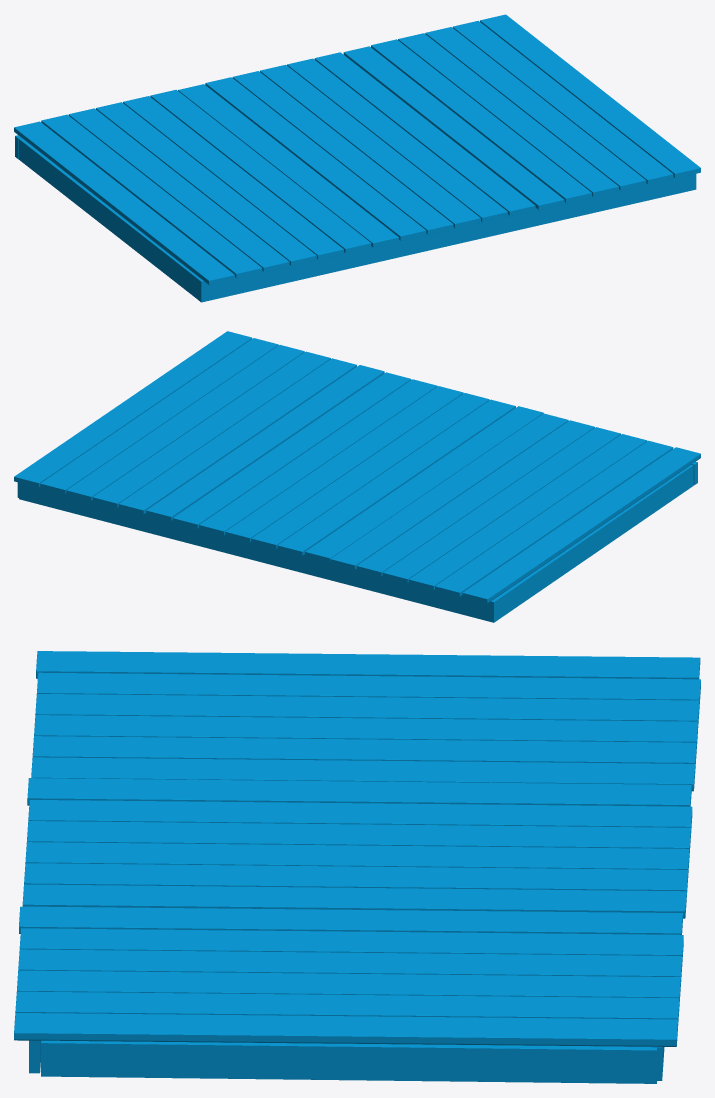
File: Podium_Wood_02.fbx
3 renders of one model, top to bottom at view 1: azimuth 30°, elevation 25°; view 2: azimuth 150°, elevation 25°; view 3: azimuth 270°, elevation 25°, orthographic. The views are drawn at different scales.
Visible parts, largest first — view 1: Podium_Wood_02; view 2: Podium_Wood_02; view 3: Podium_Wood_02.
Part boxes in pixels (x1,y1,x2,y2): Podium_Wood_02: (14,14,700,302); Podium_Wood_02: (14,331,700,622); Podium_Wood_02: (14,651,700,1083).
Size of the model in its own units: 675 by 34 by 498.
